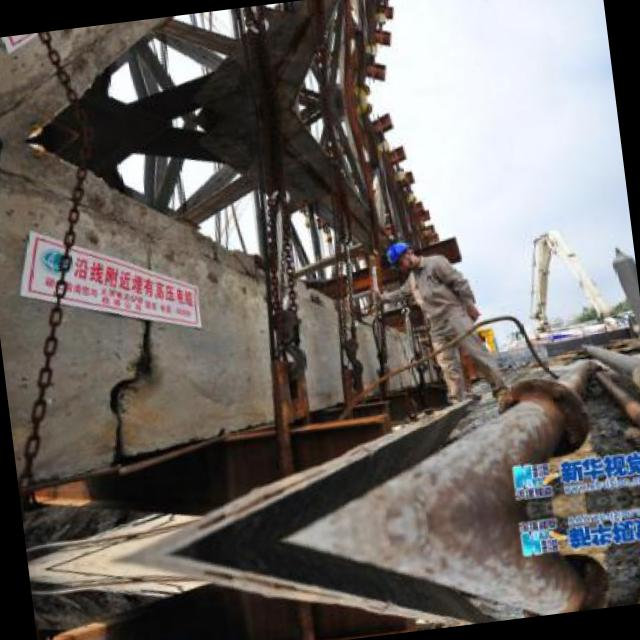helmet: (384, 236, 419, 272)
